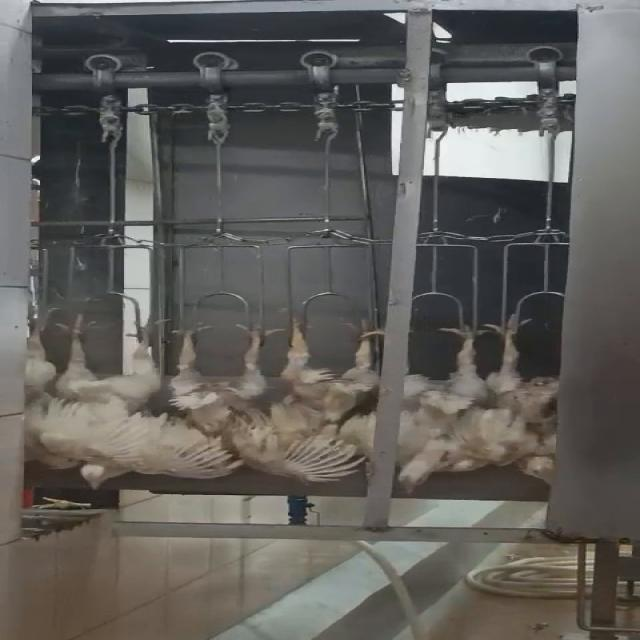chicken: (16, 316, 171, 492), (149, 314, 275, 478), (265, 310, 379, 484), (382, 315, 475, 497), (484, 303, 574, 486)
